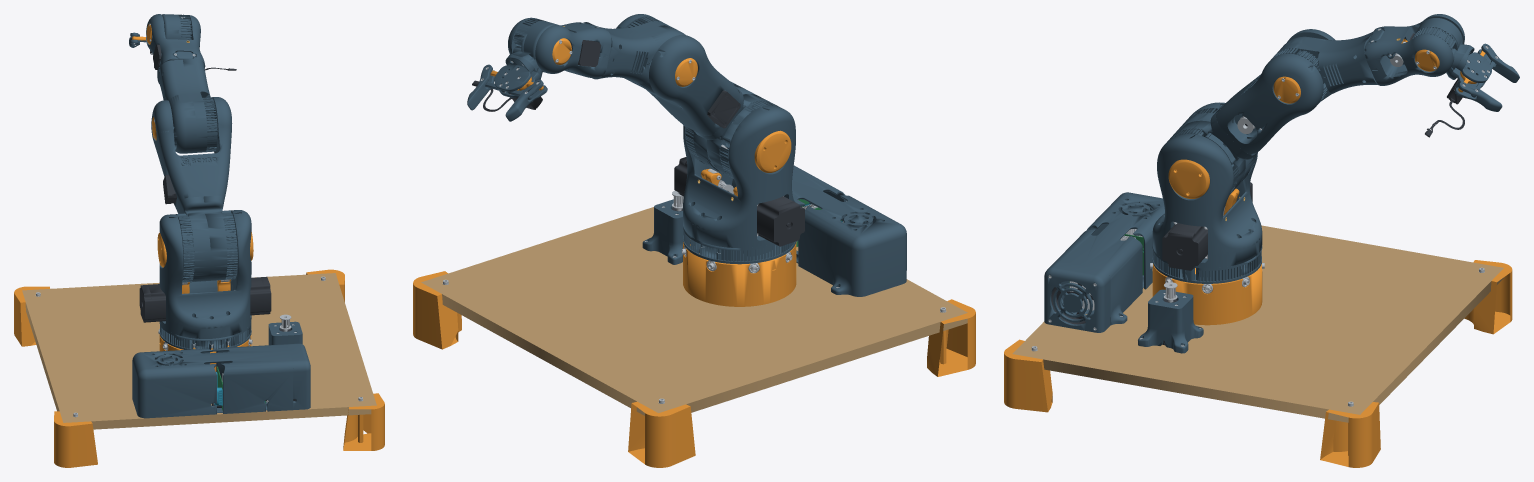
File: Moveo_LOD1.fbx
3 renders of one model, left to right at view 1: azimuth 30°, elevation 25°; view 2: azimuth 150°, elevation 25°; view 3: azimuth 270°, elevation 25°, orthographic. The views are drawn at different scales.
Parts seen in each view (by area): view 1: MM_Moveo_overview_base_platform, MM_Moveo_overview_controller, MM_Moveo_overview_shoulder, MM_Moveo_overview_elbow, MM_Moveo_overview_upper_arm, MM_Moveo_overview_forearm, MM_Moveo_overview_wrist, MM_Moveo_overview_rotary_base; view 2: MM_Moveo_overview_base_platform, MM_Moveo_overview_shoulder, MM_Moveo_overview_controller, MM_Moveo_overview_rotary_base, MM_Moveo_overview_elbow, MM_Moveo_overview_wrist, MM_Moveo_overview_forearm, MM_Moveo_overview_gripper, MM_Moveo_overview_upper_arm; view 3: MM_Moveo_overview_base_platform, MM_Moveo_overview_shoulder, MM_Moveo_overview_controller, MM_Moveo_overview_elbow, MM_Moveo_overview_rotary_base, MM_Moveo_overview_wrist, MM_Moveo_overview_forearm, MM_Moveo_overview_gripper, MM_Moveo_overview_upper_arm.
Part boxes in pixels (x1=…): MM_Moveo_overview_base_platform: x1=14, y1=269, x2=384, y2=467; MM_Moveo_overview_controller: x1=132, y1=343, x2=310, y2=418; MM_Moveo_overview_shoulder: x1=139, y1=210, x2=271, y2=351; MM_Moveo_overview_elbow: x1=151, y1=97, x2=232, y2=209; MM_Moveo_overview_upper_arm: x1=176, y1=195, x2=237, y2=282; MM_Moveo_overview_forearm: x1=159, y1=58, x2=217, y2=153; MM_Moveo_overview_wrist: x1=146, y1=14, x2=205, y2=83; MM_Moveo_overview_rotary_base: x1=158, y1=314, x2=302, y2=371; MM_Moveo_overview_base_platform: x1=413, y1=207, x2=975, y2=467; MM_Moveo_overview_shoulder: x1=674, y1=81, x2=804, y2=264; MM_Moveo_overview_controller: x1=792, y1=165, x2=906, y2=296; MM_Moveo_overview_rotary_base: x1=642, y1=190, x2=797, y2=306; MM_Moveo_overview_elbow: x1=616, y1=14, x2=740, y2=135; MM_Moveo_overview_wrist: x1=508, y1=17, x2=611, y2=78; MM_Moveo_overview_forearm: x1=583, y1=17, x2=685, y2=93; MM_Moveo_overview_gripper: x1=467, y1=54, x2=547, y2=121; MM_Moveo_overview_upper_arm: x1=683, y1=83, x2=778, y2=178; MM_Moveo_overview_base_platform: x1=1004, y1=225, x2=1512, y2=467; MM_Moveo_overview_shoulder: x1=1152, y1=102, x2=1262, y2=283; MM_Moveo_overview_controller: x1=1044, y1=192, x2=1164, y2=332; MM_Moveo_overview_elbow: x1=1216, y1=29, x2=1335, y2=154; MM_Moveo_overview_rotary_base: x1=1138, y1=263, x2=1264, y2=353; MM_Moveo_overview_wrist: x1=1364, y1=14, x2=1469, y2=90; MM_Moveo_overview_forearm: x1=1271, y1=31, x2=1378, y2=103; MM_Moveo_overview_gripper: x1=1425, y1=43, x2=1519, y2=137; MM_Moveo_overview_upper_arm: x1=1167, y1=102, x2=1257, y2=194.
Bounding box in the file's own units: 0.7424 × 0.5918 × 0.7534.
